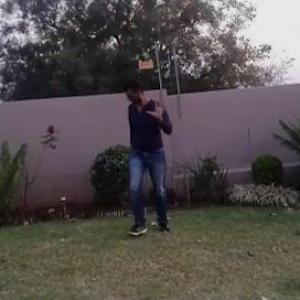follow_hand: (146, 92, 173, 122)
